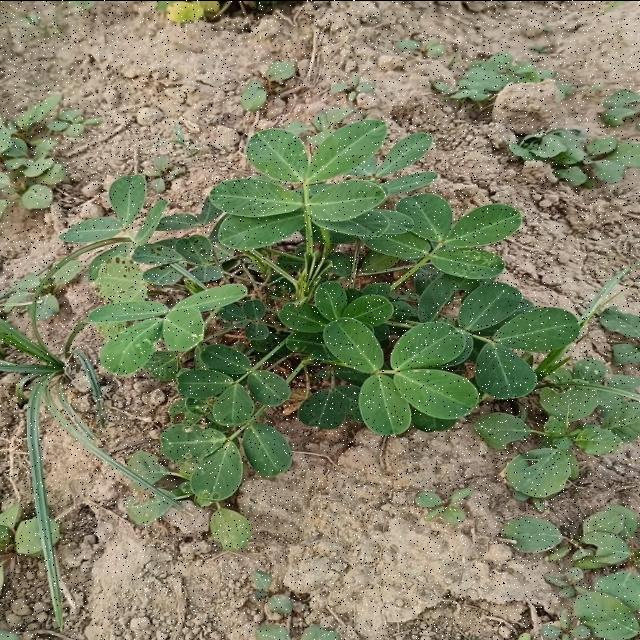plant: (63, 110, 639, 549), (503, 504, 639, 640)
